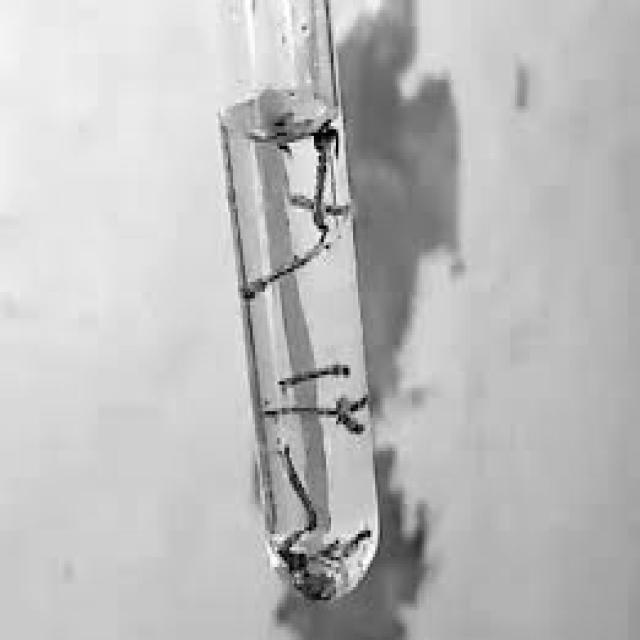larvas: (242, 232, 326, 299), (271, 446, 320, 550), (292, 186, 352, 218), (312, 131, 328, 227), (339, 524, 375, 561), (276, 366, 353, 383), (265, 404, 337, 422), (338, 399, 366, 436)
